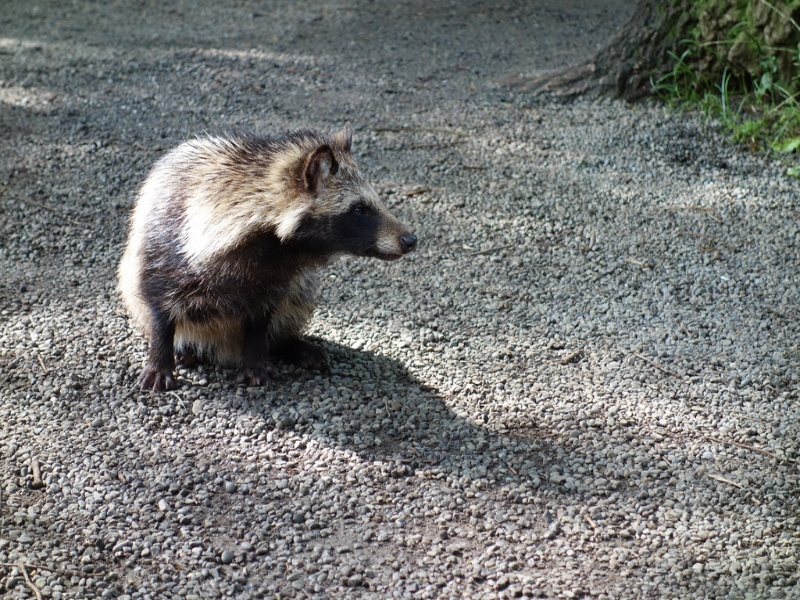raccoon: (117, 128, 420, 399)
